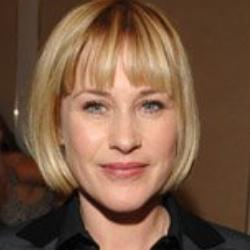face: (16, 1, 207, 227)
